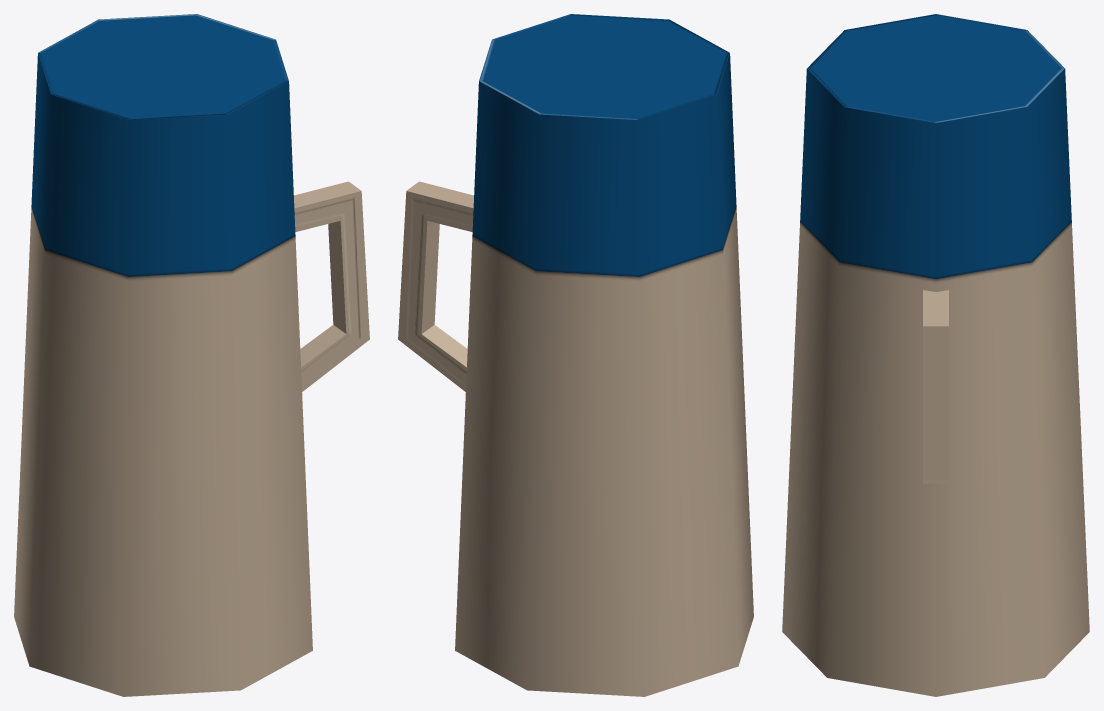
File: coffee_bottle.fbx
3 renders of one model, left to right at view 1: azimuth 30°, elevation 25°; view 2: azimuth 150°, elevation 25°; view 3: azimuth 270°, elevation 25°, orthographic.
Parts seen in each view (by area): view 1: coffee_bottle; view 2: coffee_bottle; view 3: coffee_bottle.
Boxes of the visible parts, x1=… form: coffee_bottle: x1=14, y1=14, x2=369, y2=696; coffee_bottle: x1=398, y1=14, x2=753, y2=696; coffee_bottle: x1=782, y1=14, x2=1089, y2=696.
Bounding box in the file's own units: 1.04 × 1.69 × 0.8349.
Materials: 1 (1 with a texture image).
